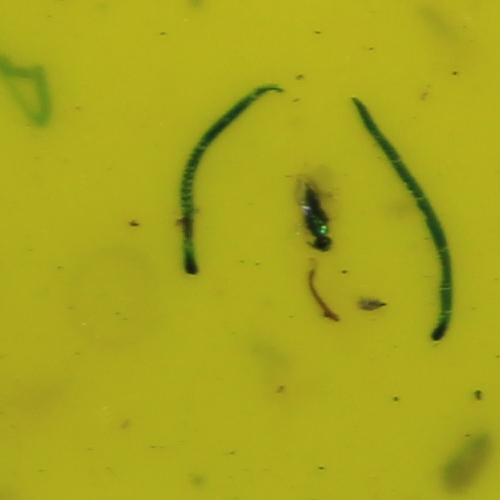wasp: (298, 181, 333, 254)
